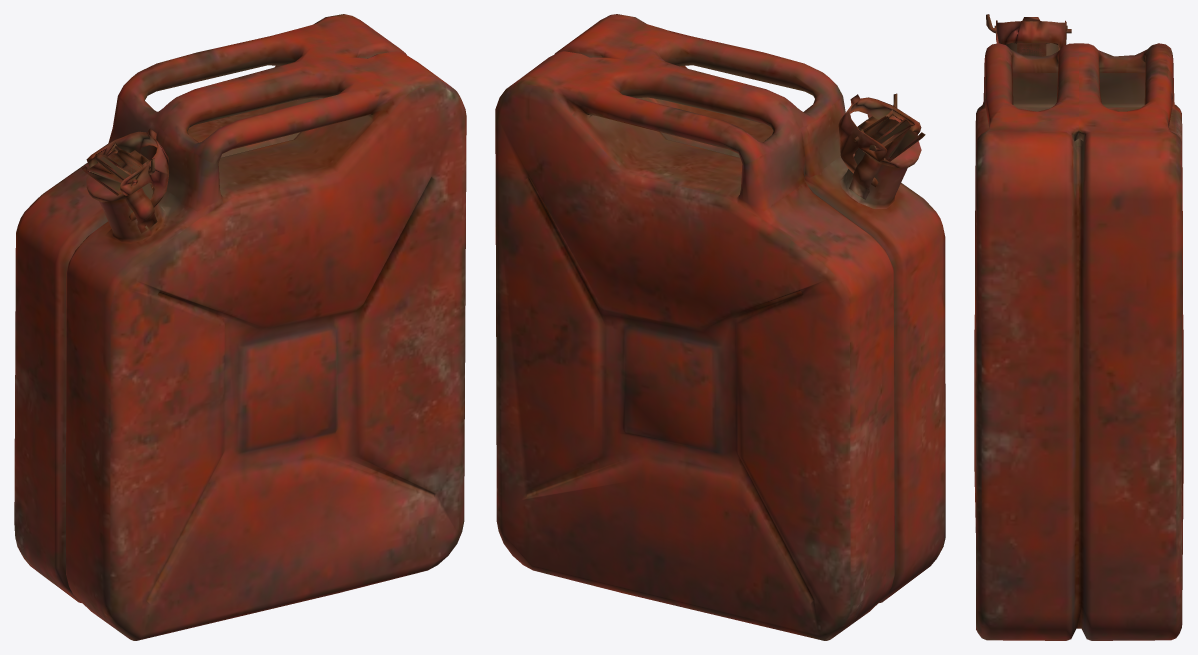
File: jerrycan.glb
3 renders of one model, left to right at view 1: azimuth 30°, elevation 25°; view 2: azimuth 150°, elevation 25°; view 3: azimuth 270°, elevation 25°, orthographic. The views are drawn at different scales.
Visible parts, largest first — view 1: metal_jerrycan; view 2: metal_jerrycan; view 3: metal_jerrycan.
Part boxes in pixels (<box>): metal_jerrycan: <box>14,14,466,640</box>; metal_jerrycan: <box>495,14,945,640</box>; metal_jerrycan: <box>974,14,1183,640</box>.
Size of the model in its own units: 0.35 by 0.4548 by 0.1717.
Materials: 1 (1 with a texture image).
